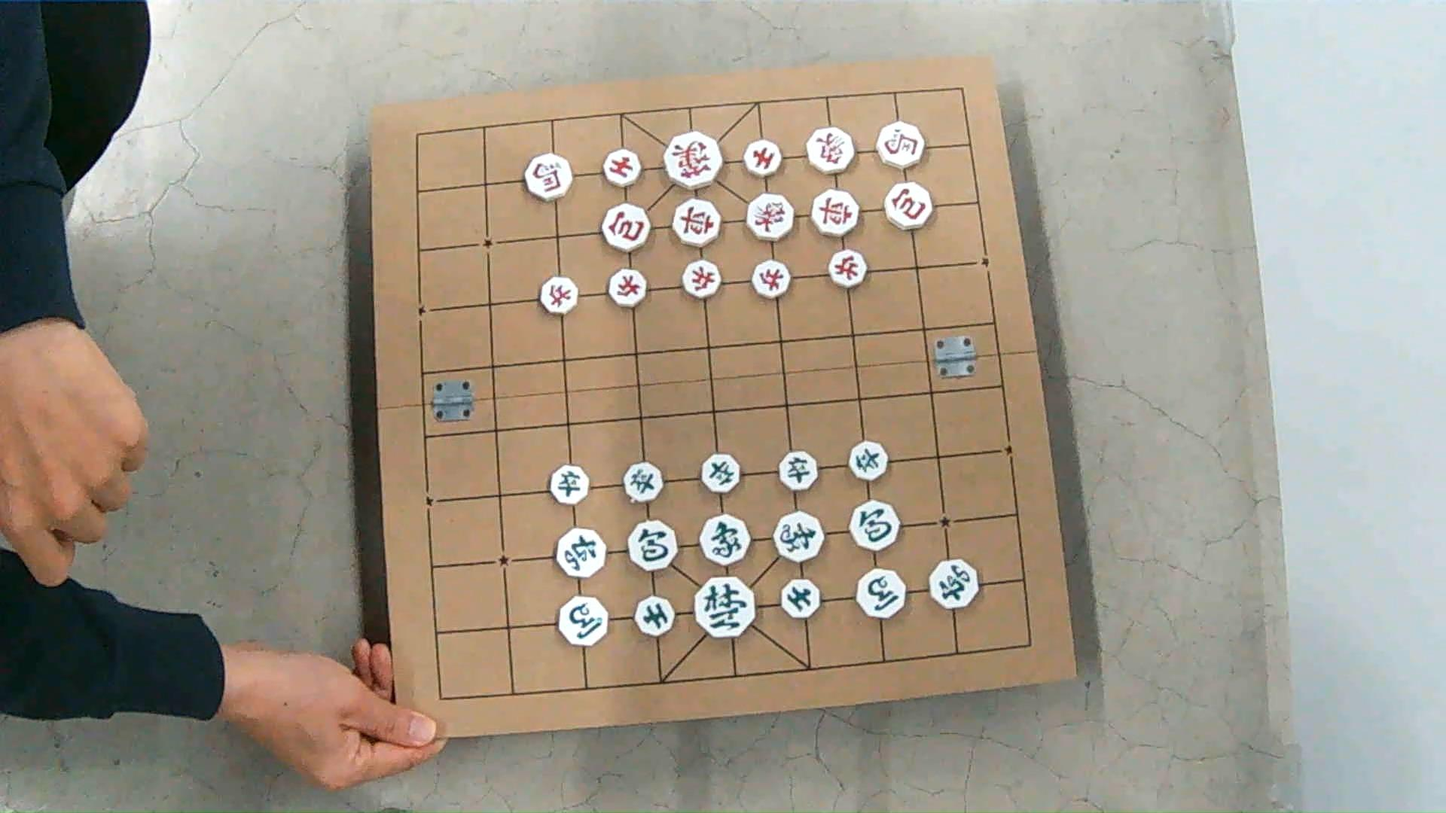cha_green: (555, 528, 606, 578), (929, 559, 977, 608)
cha_red: (811, 190, 859, 237), (672, 199, 719, 245)
jol_green: (624, 462, 662, 503), (779, 451, 817, 491), (702, 454, 740, 493), (849, 441, 887, 480), (551, 464, 588, 504)
jol_red: (828, 250, 867, 288), (539, 276, 577, 314), (752, 260, 790, 297), (682, 260, 719, 298), (609, 269, 645, 307)
ma_green: (558, 596, 606, 645), (857, 569, 905, 618)
ma_red: (524, 154, 572, 201), (877, 122, 923, 169)
po_green: (628, 520, 677, 571), (850, 501, 898, 550)
po_red: (602, 204, 649, 251), (885, 182, 932, 229)
sa_green: (636, 596, 674, 637), (782, 580, 819, 618)
sa_red: (744, 139, 782, 177), (604, 149, 641, 187)
sang_green: (699, 514, 750, 565), (773, 512, 823, 562)
sang_red: (807, 127, 853, 174), (747, 193, 792, 241)
wang_green: (695, 576, 755, 638)
wang_red: (664, 132, 721, 188)
